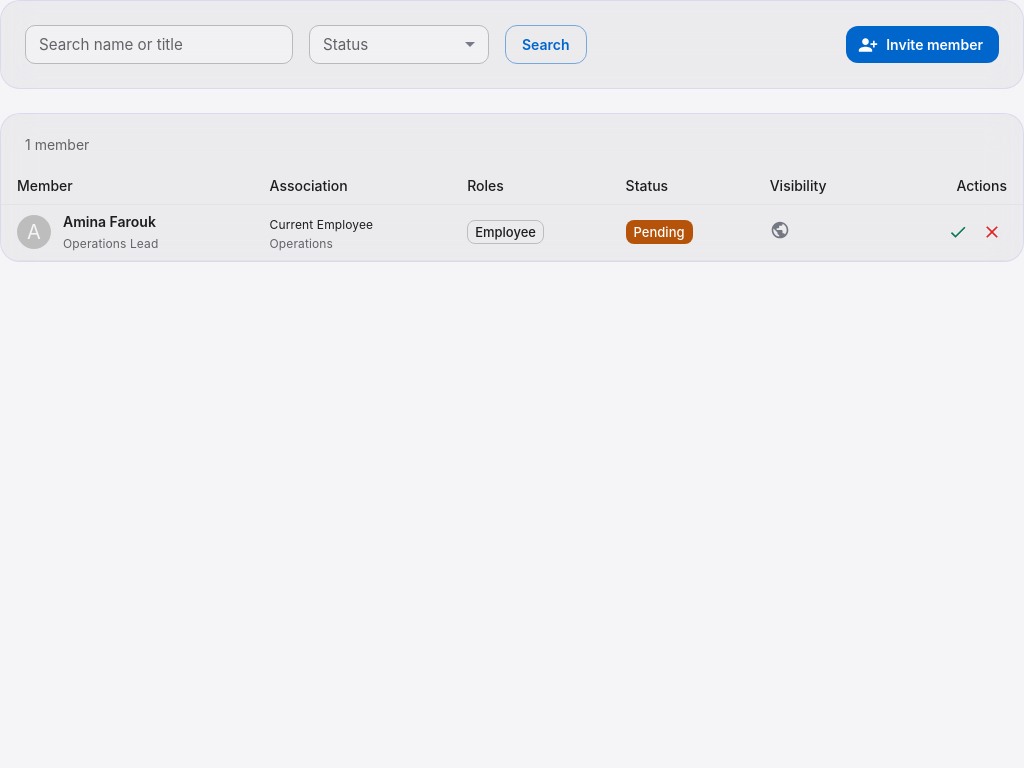
Scenario: CompanyTeam › approves a pending association for a member who may decide
The width and height of the screenshot is (1024, 768).
Click the button named "Approve Amina Farouk" at [958, 232], box [943, 217, 973, 247]
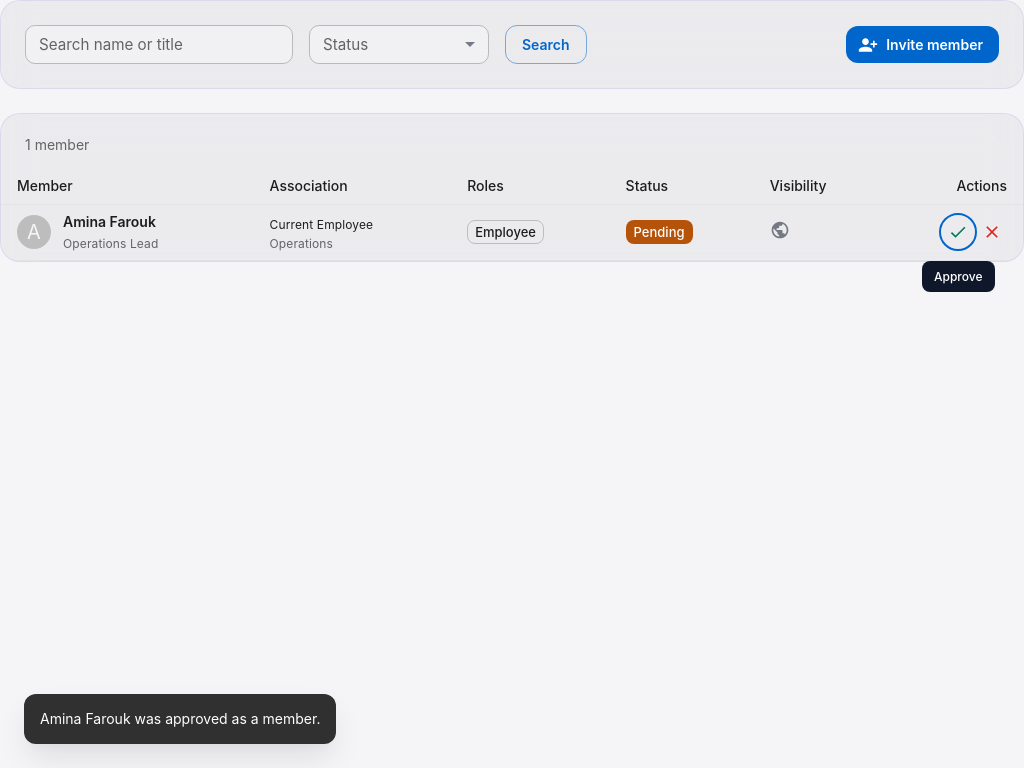
Expected: the text "Amina Farouk was approved as a member." is shown, [40, 710, 320, 727]
